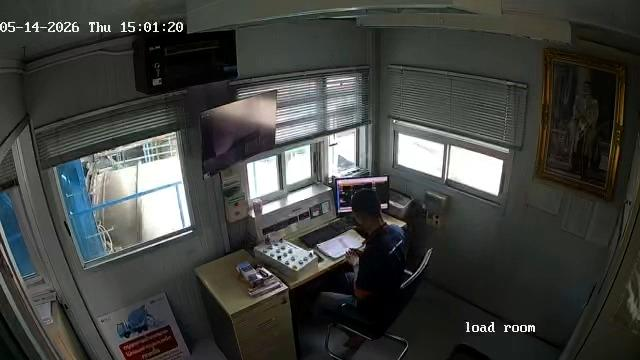Head: (348, 186, 387, 237)
People: (339, 186, 411, 306)
